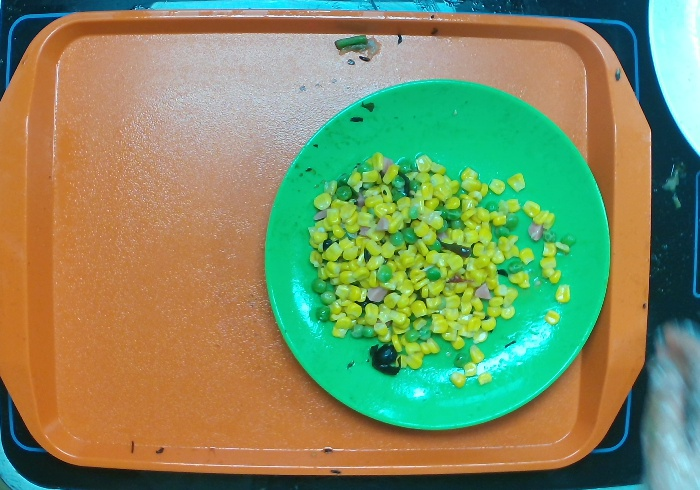HZYJPL-Lv_Se_Yuan_Pan: (255, 73, 620, 438)
